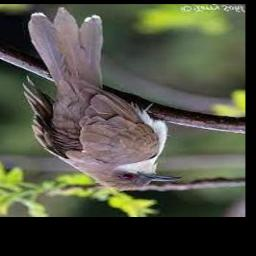Cuckoo: (21, 9, 181, 191)
